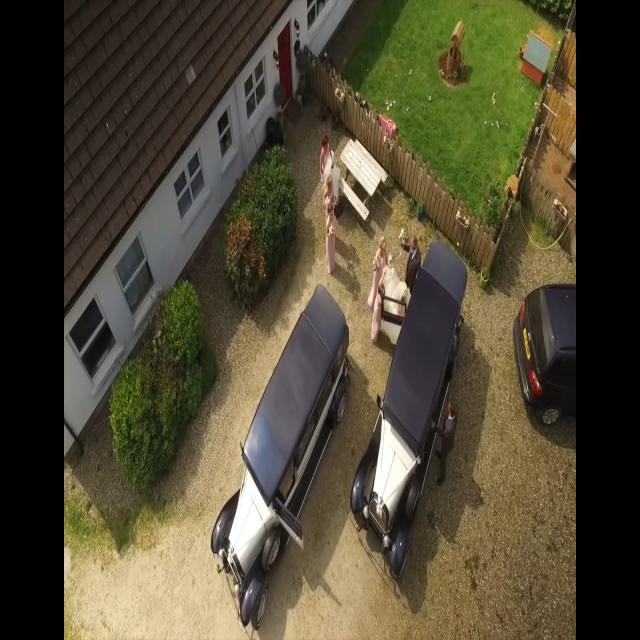humans: (321, 172, 339, 284), (406, 228, 424, 287), (318, 128, 340, 176), (373, 278, 388, 348), (368, 230, 388, 280)
